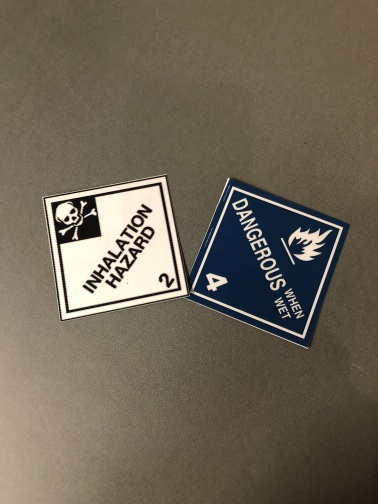DangerousWhenWet: (191, 178, 350, 348)
InhalationHazard: (43, 178, 189, 320)
